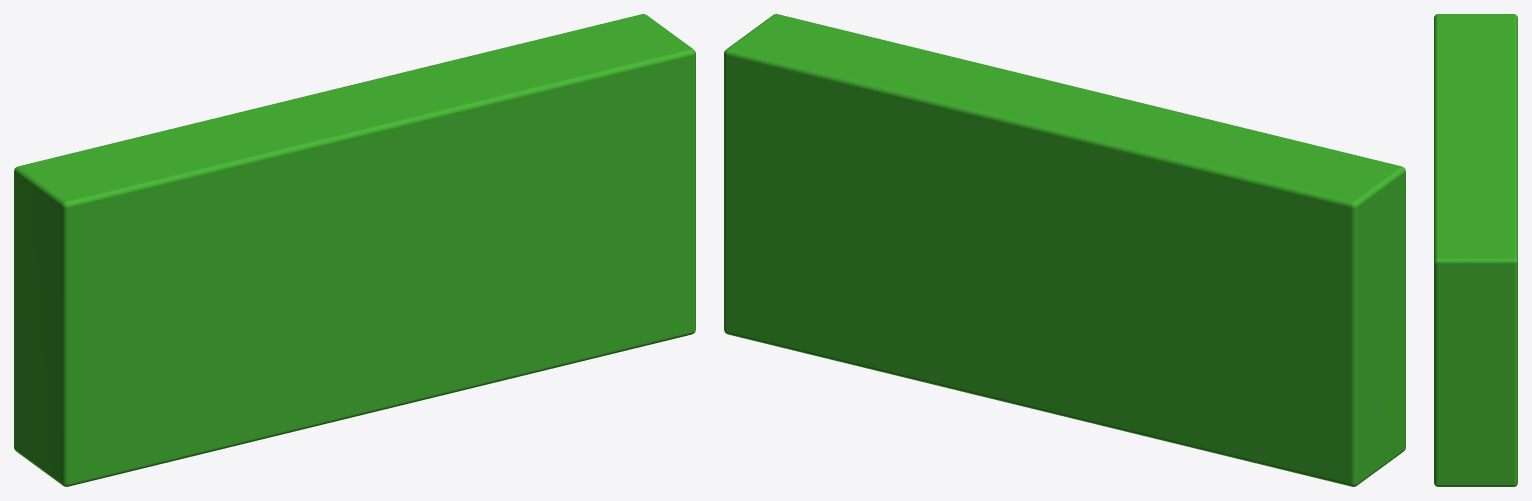
The model's file is Rectangle Large.fbx.
The picture shows the model from 3 angles, left to right: view 1: azimuth 30°, elevation 25°; view 2: azimuth 150°, elevation 25°; view 3: azimuth 270°, elevation 25°; orthographic projection. The views are drawn at different scales.
Visible parts, largest first — view 1: SM_Square_Large; view 2: SM_Square_Large; view 3: SM_Square_Large.
Boxes of the visible parts, x1,y1,x2,y2 form: SM_Square_Large: [14, 14, 695, 486]; SM_Square_Large: [724, 14, 1405, 486]; SM_Square_Large: [1434, 14, 1517, 486].
Size of the model in its own units: 14.18 by 6.1 by 2.03.
